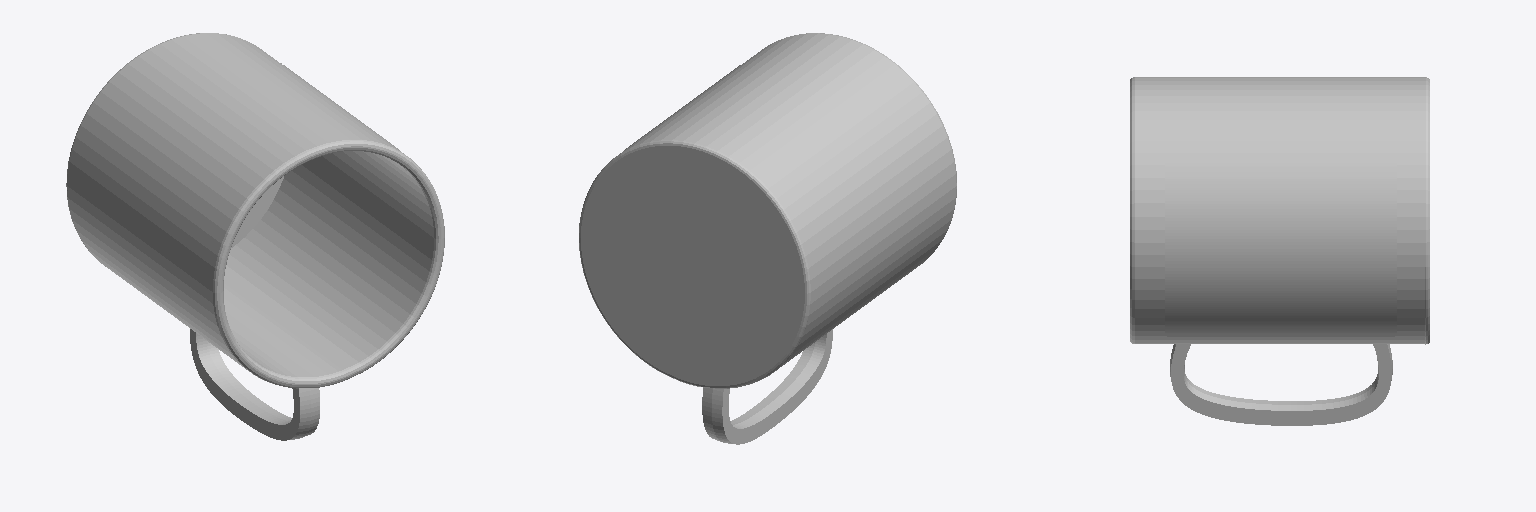
File: cup.obj
3 views of the same model, side by side, from view 1: azimuth 30°, elevation 25°; view 2: azimuth 150°, elevation 25°; view 3: azimuth 270°, elevation 25° (orthographic).
Parts seen in each view (by area): view 1: Coffee_Cup; view 2: Coffee_Cup; view 3: Coffee_Cup.
Boxes of the visible parts, x1=… form: Coffee_Cup: x1=66, y1=33, x2=444, y2=440; Coffee_Cup: x1=579, y1=33, x2=956, y2=444; Coffee_Cup: x1=1130, y1=77, x2=1429, y2=425.
Bounding box in the file's own units: 0.1017 × 0.1394 × 0.1143.